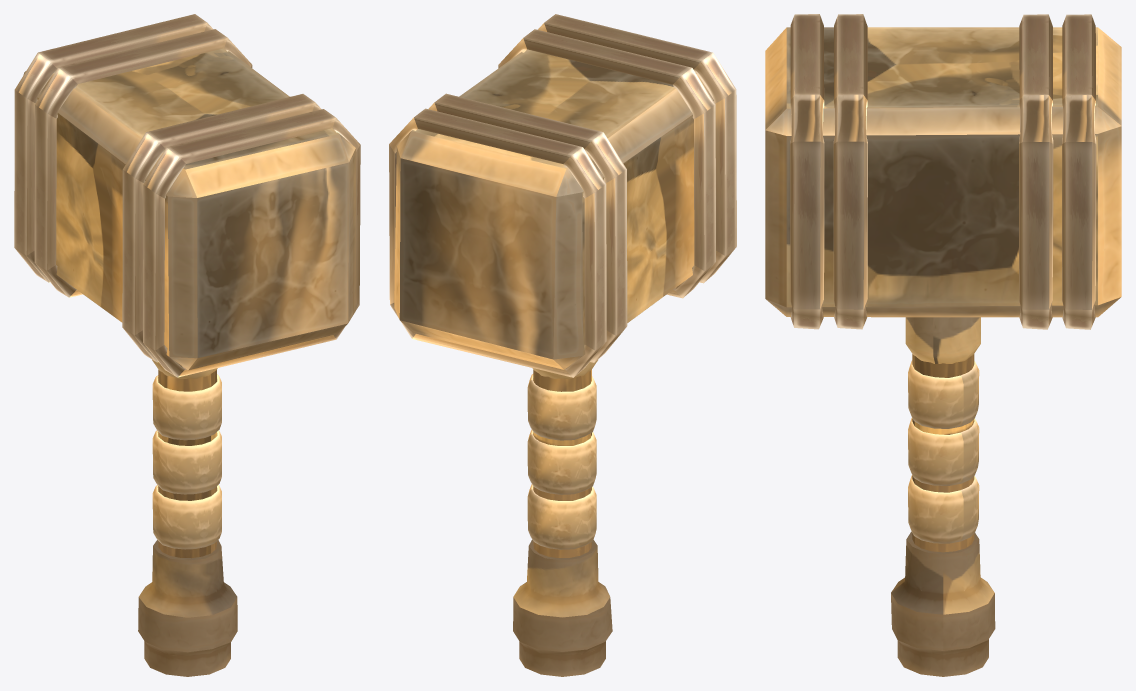
File: SM_Stylized_Hammer.fbx
The picture shows the model from 3 angles, left to right: view 1: azimuth 30°, elevation 25°; view 2: azimuth 150°, elevation 25°; view 3: azimuth 270°, elevation 25°; orthographic projection. The views are drawn at different scales.
Parts seen in each view (by area): view 1: SM_Stylized_Hammer_LOD0; view 2: SM_Stylized_Hammer_LOD0; view 3: SM_Stylized_Hammer_LOD0.
Boxes of the visible parts, bbox=[...] form: SM_Stylized_Hammer_LOD0: bbox=[14, 14, 360, 676]; SM_Stylized_Hammer_LOD0: bbox=[389, 14, 736, 676]; SM_Stylized_Hammer_LOD0: bbox=[765, 14, 1121, 676].
Size of the model in its own units: 29.04 by 41.37 by 77.15.
